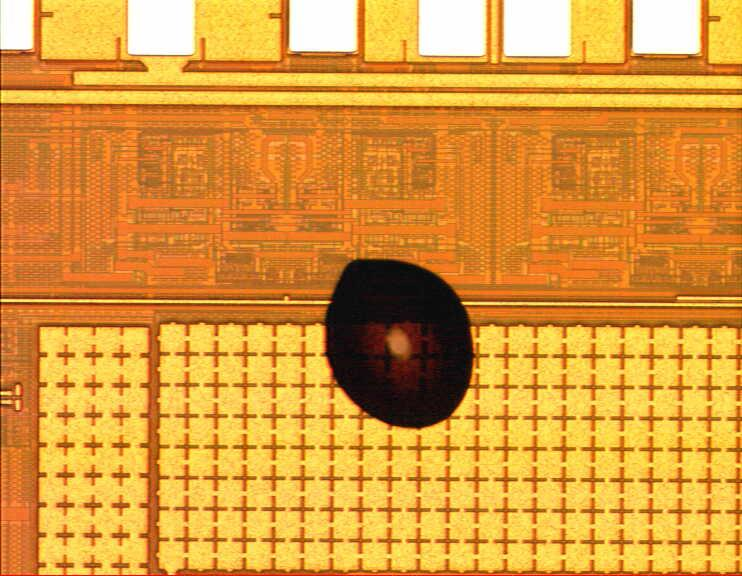PIQ PARTICLE: (323, 255, 480, 437)
